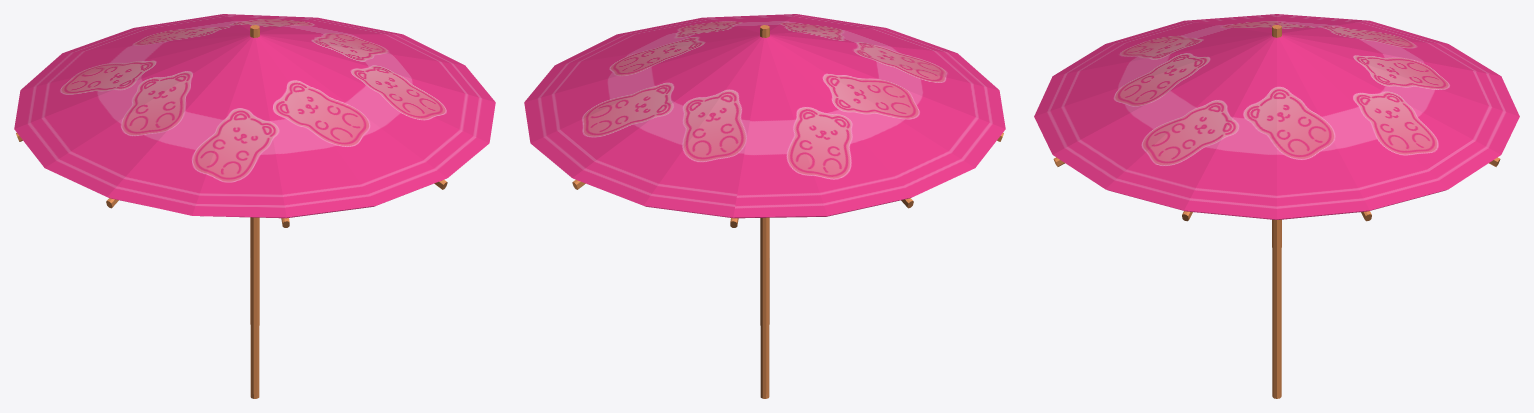
The model's file is parasol_pink.fbx.
The picture shows the model from 3 angles, left to right: view 1: azimuth 30°, elevation 25°; view 2: azimuth 150°, elevation 25°; view 3: azimuth 270°, elevation 25°; orthographic projection.
Visible parts, largest first — view 1: parasol_pink; view 2: parasol_pink; view 3: parasol_pink.
Boxes of the visible parts, box(x1,y1,x2,y2) form: parasol_pink: box(14, 14, 495, 398); parasol_pink: box(524, 14, 1005, 398); parasol_pink: box(1034, 14, 1519, 398).
Size of the model in its own units: 84.36 by 70.92 by 84.36.
